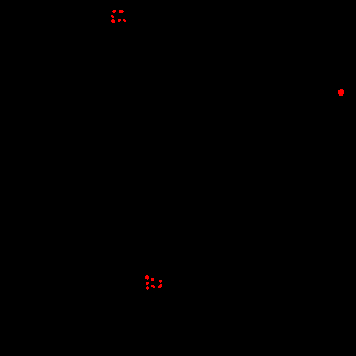Target: (338, 89, 344, 96), (145, 275, 149, 280), (111, 19, 115, 23), (158, 284, 162, 288), (119, 10, 124, 13), (112, 10, 116, 13), (151, 285, 155, 288), (146, 286, 149, 290), (111, 15, 114, 18), (118, 19, 121, 22), (123, 19, 126, 22), (151, 278, 154, 281), (159, 280, 162, 283), (146, 282, 149, 285)
